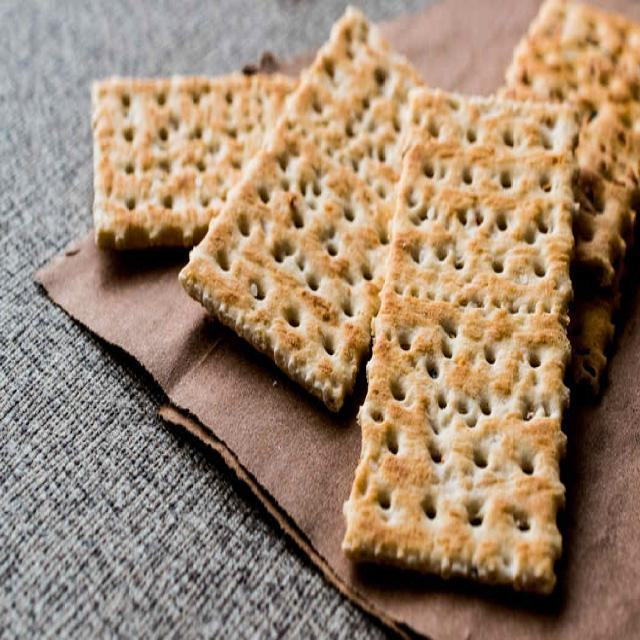Cracker: (352, 75, 580, 613), (192, 7, 450, 443)
